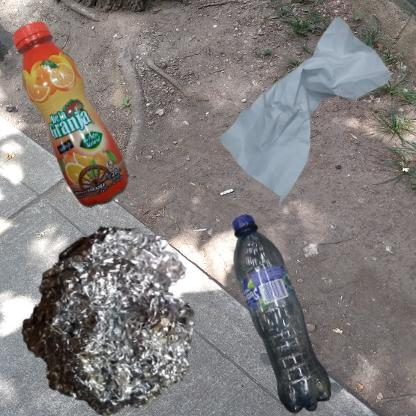aluminio: (10, 213, 211, 416)
botella: (10, 10, 146, 239), (213, 213, 354, 416)
papel: (213, 10, 395, 213)
